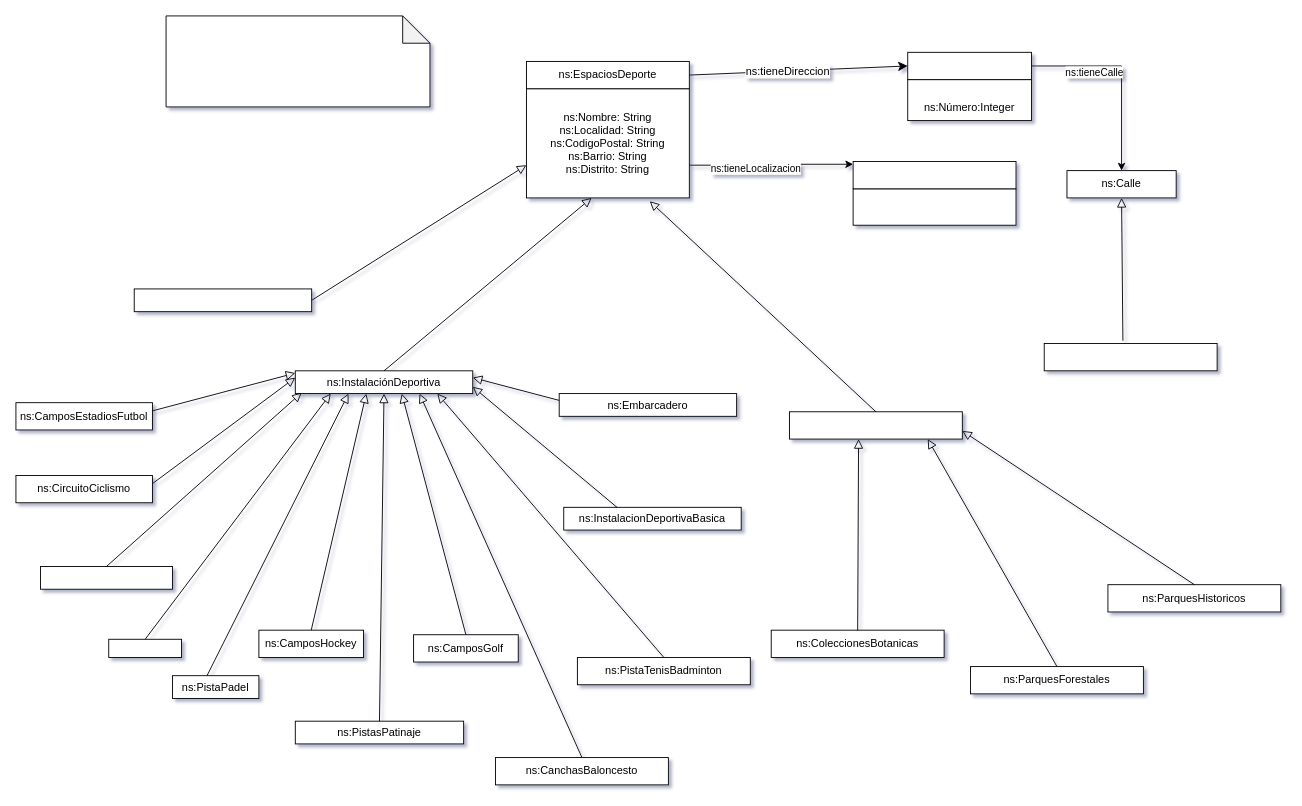
Some shapes in this 1302 by 806 pixel diagram are drawn without their labels. Here are the shapes that lost their labels. From the top down, the centre of each, then its label:
pixel 297 61: ns: http://example.com other: http://other.namespace.com
pixel 969 65: ns:Dirección
pixel 934 175: ns:Localización
pixel 934 206: ns:Latitud: Float ns:Longitud: Float
pixel 222 300: ns:CentrosAltoRendimiento
pixel 1130 357: ns:CalleTranquila
pixel 875 425: ns:ParquesJardines
pixel 106 577: ns:CircuitoFooting
pixel 145 647: ns:Frontón
